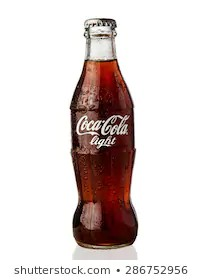coke-glass-bottle: (68, 12, 139, 251)
